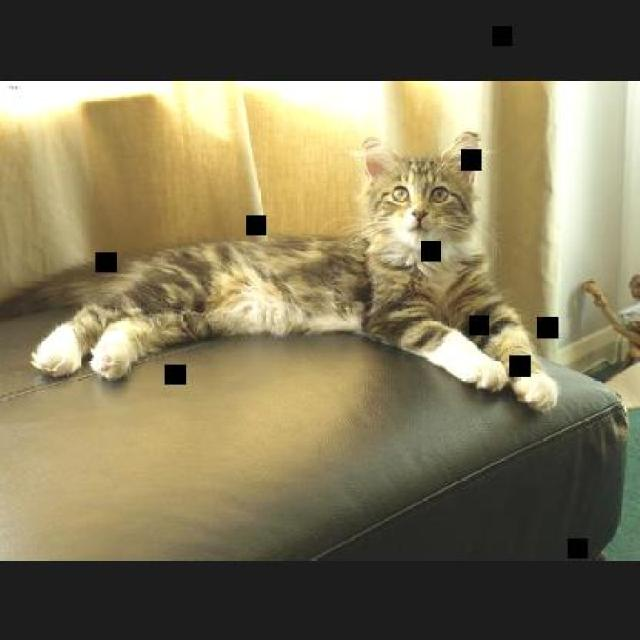unauthorized: (0, 129, 558, 412)
